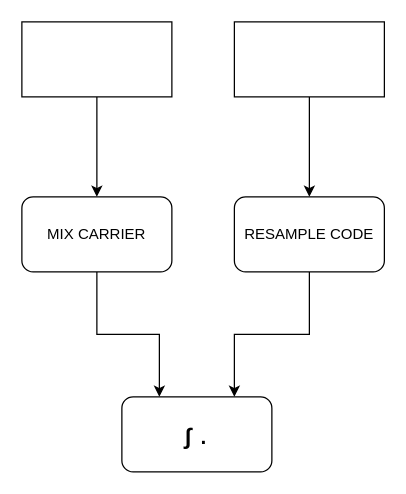
Some shapes in this 406 by 494 pixel diagram are drawn without their labels. Each missing label, with the centre of its shape:
"CODE" belongs at (x=308, y=59).
"DATA" belongs at (x=96, y=59).
